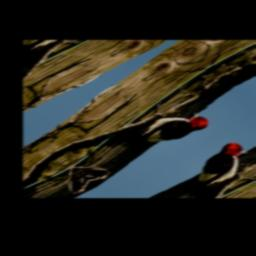Woodpecker: (114, 97, 213, 162)
